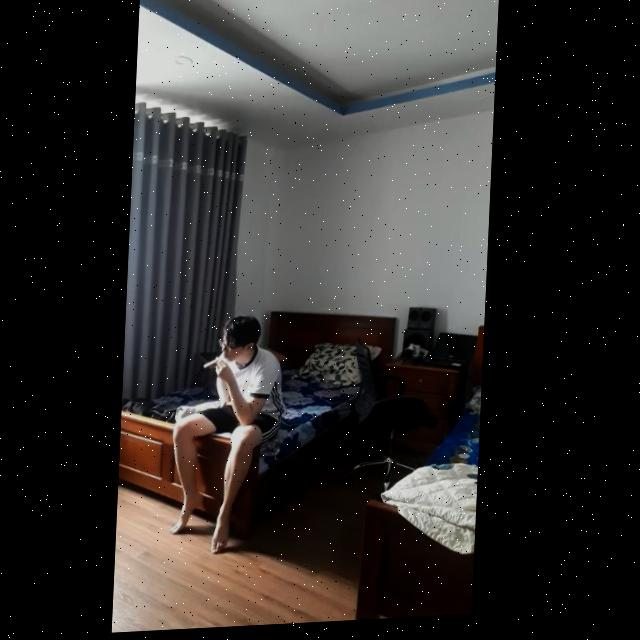cigarette: (205, 363, 221, 371)
